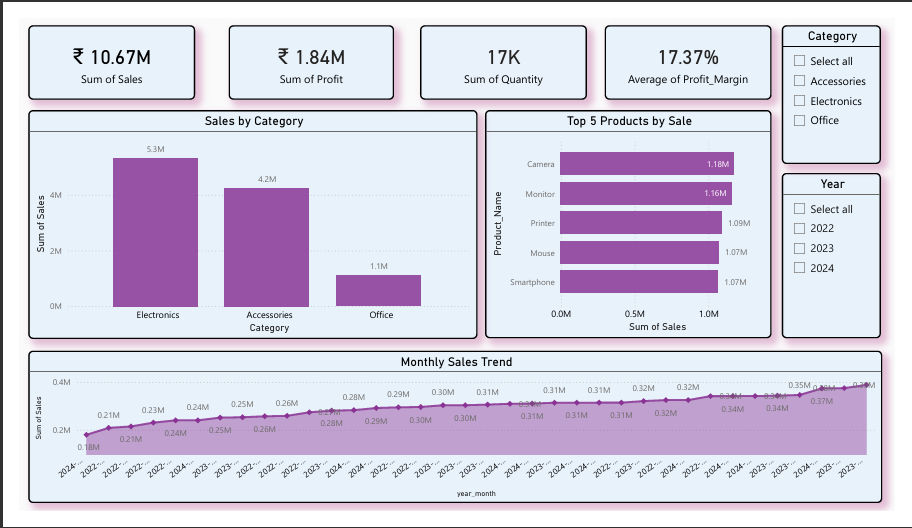

Layout of this report page (visuals, bound fields, positions):
{"tool":"powerbi","page":{"name":"Page 1","canvas":[1280,720],"ordinal":0},"visuals":[{"type":"card","fields":{"Values":["Sum(ecommerce_project ecomm_view.Sales)"]},"box":[13.4,10.1,243.6,109.2],"z":0},{"type":"card","fields":{"Values":["Sum(ecommerce_project ecomm_view.Profit)"]},"box":[306.1,9.8,242.3,109.7],"z":1000},{"type":"card","fields":{"Values":["Avg(ecommerce_project ecomm_view.Profit_Margin)"]},"box":[856.1,9.8,243.9,109.7],"z":2000},{"type":"card","fields":{"Values":["Sum(ecommerce_project ecomm_view.Quantity)"]},"box":[586,9.8,243.9,109.7],"z":3000},{"type":"clusteredColumnChart","title":"Sales by Category","fields":{"Category":["ecommerce_project ecomm_view.Category"],"Y":["Sum(ecommerce_project ecomm_view.Sales)"]},"box":[13.4,134.4,656.8,334.3],"z":4000},{"type":"lineChart","title":"Monthly Sales Trend","fields":{"Category":["ecommerce_project ecomm_view.year_month"],"Y":["Sum(ecommerce_project ecomm_view.Sales)"]},"box":[13.1,486.1,1248.9,222.6],"z":5000},{"type":"clusteredBarChart","title":"Top 5 Products by Sale","fields":{"Category":["ecommerce_project ecomm_view.Product_Name"],"Y":["Sum(ecommerce_project ecomm_view.Sales)"]},"box":[680.9,134.2,419,333.9],"z":6000},{"type":"slicer","title":" Year","fields":{"Values":["ecommerce_project ecomm_view.Year"]},"box":[1114.7,225.9,145.7,242.3],"z":7000},{"type":"slicer","title":"Category","fields":{"Values":["ecommerce_project ecomm_view.Category"]},"box":[1114.7,9.8,145.7,203],"z":8000}]}

Visuals, with their boxes in screenshot pixels (x1, y1, x2, y2), scaled from the page's 1280x720 canvas onto the 912x528 screenshot:
card - Sum(ecommerce_project ecomm_view.Sales): region(10, 7, 183, 87)
card - Sum(ecommerce_project ecomm_view.Profit): region(218, 7, 391, 88)
card - Avg(ecommerce_project ecomm_view.Profit_Margin): region(610, 7, 784, 88)
card - Sum(ecommerce_project ecomm_view.Quantity): region(418, 7, 591, 88)
"Sales by Category" clusteredColumnChart: region(10, 99, 478, 344)
"Monthly Sales Trend" lineChart: region(9, 356, 899, 520)
"Top 5 Products by Sale" clusteredBarChart: region(485, 98, 784, 343)
" Year" slicer: region(794, 166, 898, 343)
"Category" slicer: region(794, 7, 898, 156)
